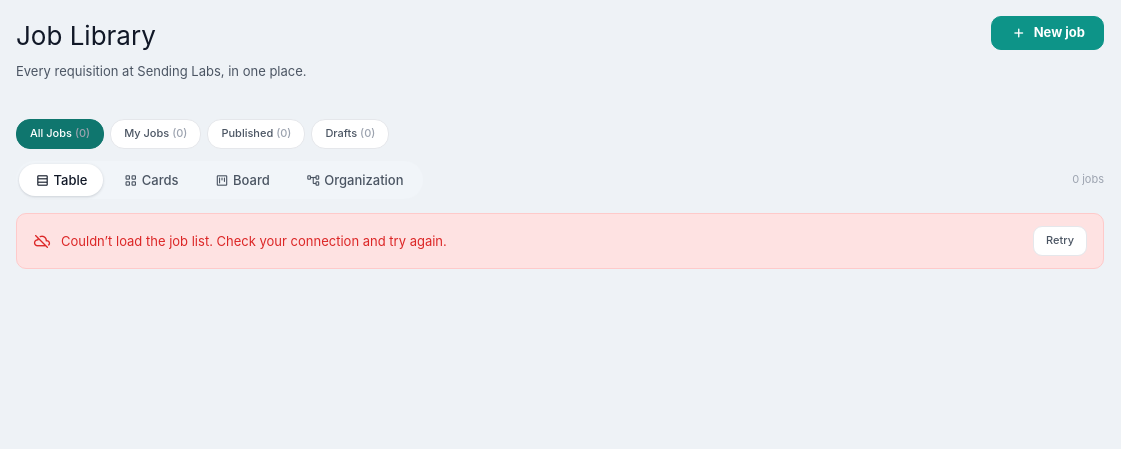
Test case: Job Library loading states (#35) › AC-1/AC-2: a failure shows the error and Retry; the empty state appears only after a real empty answer
This screenshot has width=1121, height=449.
Expected: the text "Couldn’t load the job list." is shown, x1=61 y1=233 x2=213 y2=249
Expected: the text "No jobs match these filters" is not shown
Click the button "Retry" at (1060, 241), box x1=1033 y1=226 x2=1087 y2=256
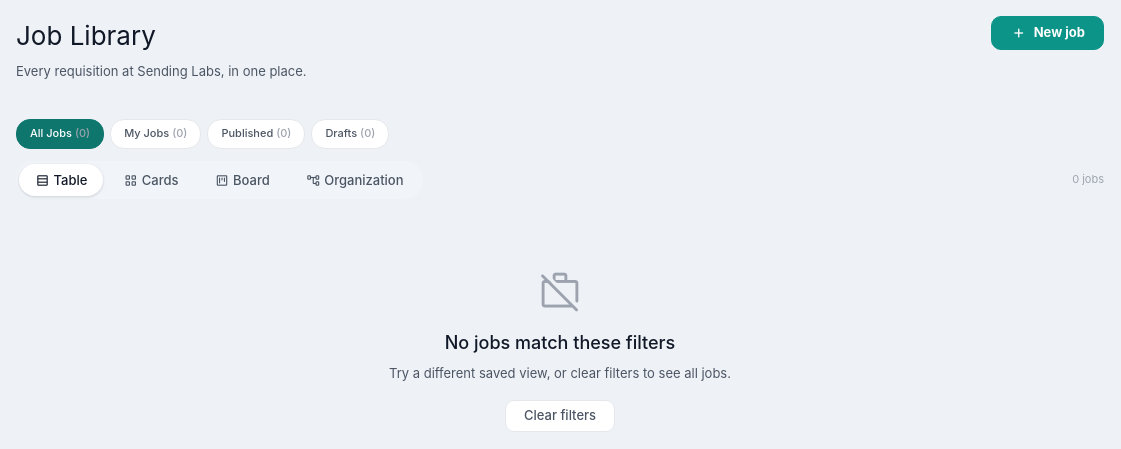
Now the heading "No jobs match these filters" is shown, box x1=445 y1=332 x2=675 y2=353
Now the message "Couldn’t load the job list. Check your connection and try again. Retry" is gone
